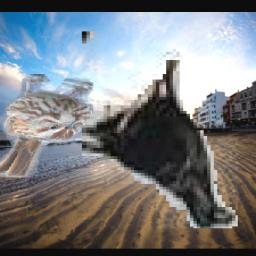Crow: (83, 32, 239, 229)
Sparrow: (0, 74, 93, 177)
